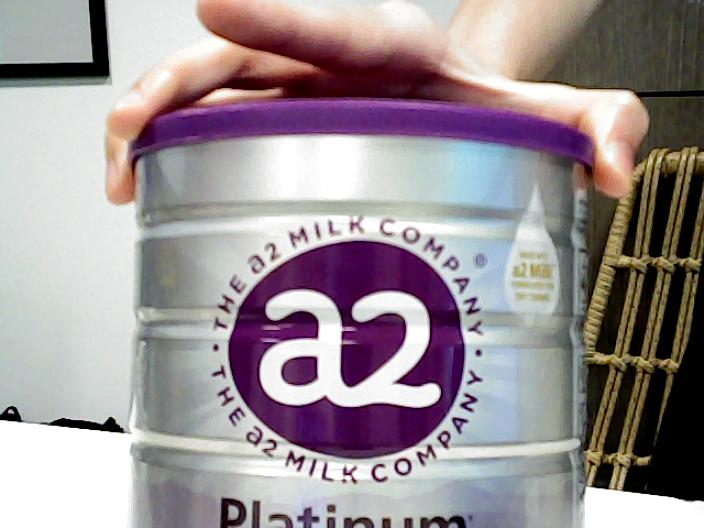Babymilk-powder_900-999g_NonHalal_NonHealthy: (129, 95, 599, 528)
